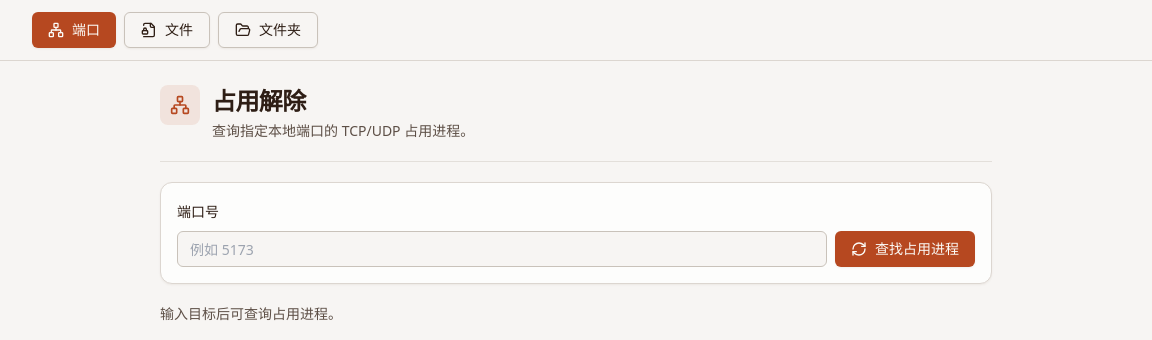
Test: Windows process tools › 修改查询目标后立即允许新查询，忽略旧目标的迟到响应
Type "5173" into the field labelled "端口号" at (502, 249), box [177,231,827,267]
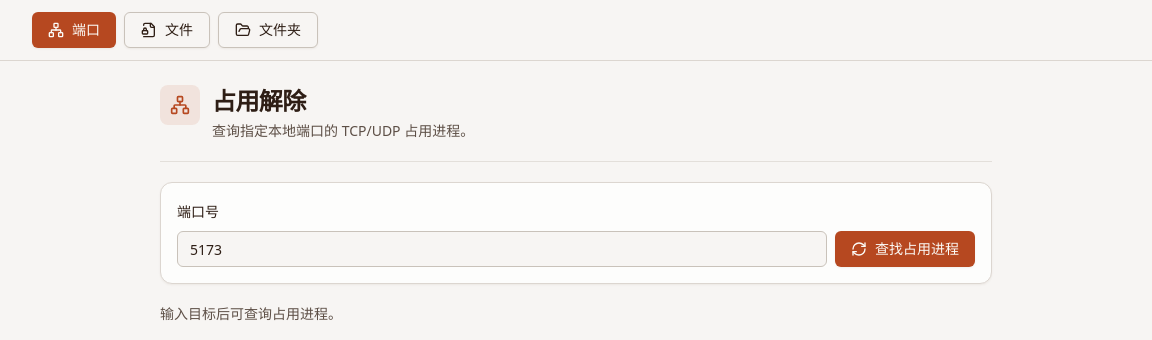
Click the button "查找占用进程" at (905, 249), box [835,231,975,267]
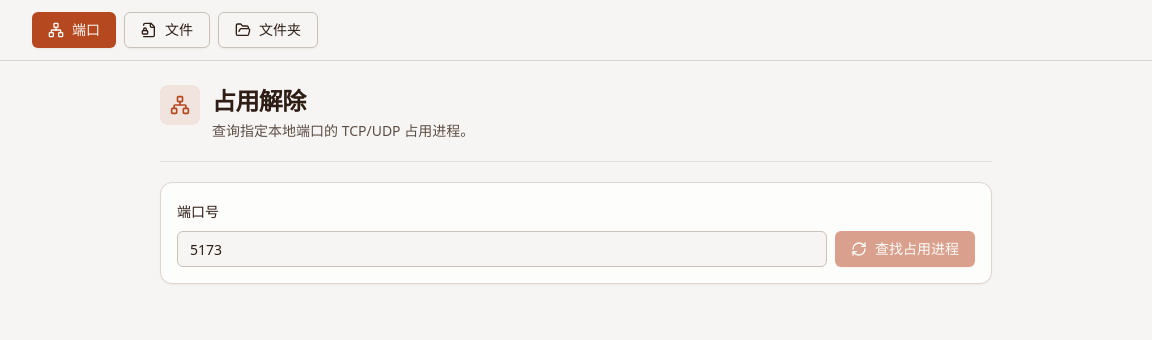
Replace the text in the field labelled "端口号" with "8080" at (502, 249), box [177,231,827,267]
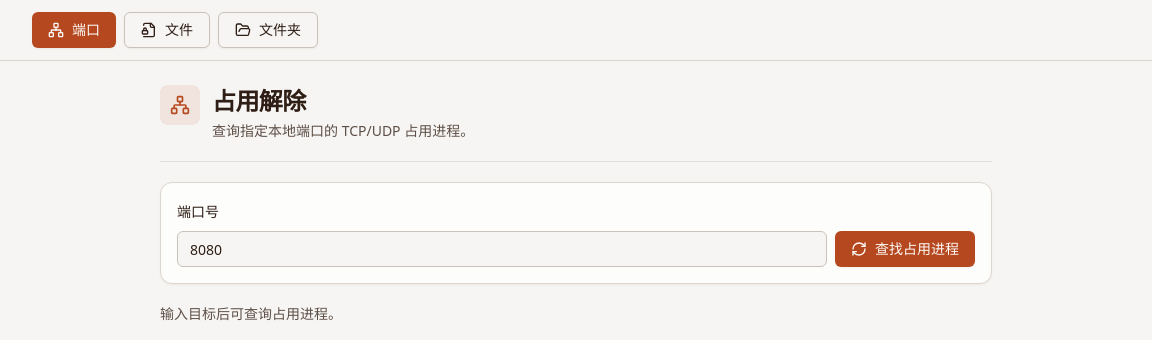
Check: the button "查找占用进程" is enabled
Click the button "查找占用进程" at (905, 249), box [835,231,975,267]
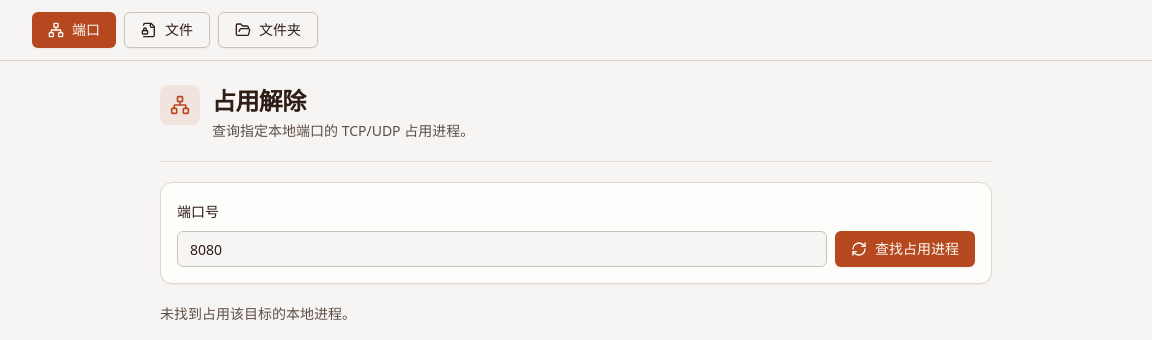
Check: the text "未找到占用该目标的本地进程。" is shown, box [160,304,356,323]
